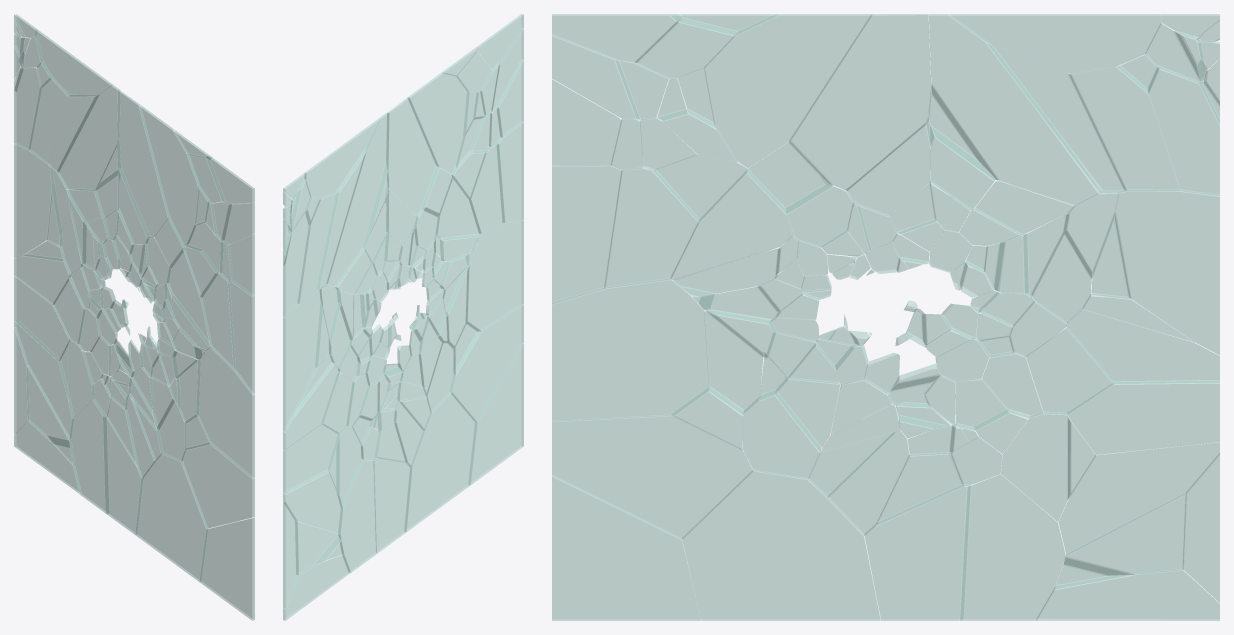
Rendered from Glass_Crack_Experiment_1.fbx.
3 renders of one model, left to right at view 1: azimuth 30°, elevation 25°; view 2: azimuth 150°, elevation 25°; view 3: azimuth 270°, elevation 25°, orthographic. The views are drawn at different scales.
Parts seen in each view (by area): view 1: Plate1_cell.176, Plate1_cell.009, Plate1_cell.167, Plate1_cell.107, Plate1_cell.120, Plate1_cell.142, Plate1_cell.008, Plate1_cell.025, Plate1_cell.130, Plate1_cell.173, Plate1_cell.116, Plate1_cell.158 (+63 smaller); view 2: Plate1_cell.176, Plate1_cell.009, Plate1_cell.167, Plate1_cell.120, Plate1_cell.107, Plate1_cell.008, Plate1_cell.142, Plate1_cell.025, Plate1_cell.130, Plate1_cell.173, Plate1_cell.158, Plate1_cell.116 (+63 smaller); view 3: Plate1_cell.176, Plate1_cell.009, Plate1_cell.167, Plate1_cell.107, Plate1_cell.120, Plate1_cell.008, Plate1_cell.142, Plate1_cell.025, Plate1_cell.130, Plate1_cell.173, Plate1_cell.116, Plate1_cell.158 (+73 smaller).
Boxes of the visible parts, box(x1,y1,x2,y2) form: Plate1_cell.176: box(135, 453, 207, 581); Plate1_cell.009: box(196, 346, 254, 478); Plate1_cell.167: box(181, 443, 254, 528); Plate1_cell.107: box(117, 90, 168, 238); Plate1_cell.120: box(199, 517, 254, 620); Plate1_cell.142: box(139, 105, 199, 247); Plate1_cell.008: box(57, 85, 120, 190); Plate1_cell.025: box(14, 144, 53, 257); Plate1_cell.130: box(69, 399, 108, 513); Plate1_cell.173: box(103, 416, 142, 534); Plate1_cell.116: box(14, 319, 73, 439); Plate1_cell.158: box(14, 276, 69, 360); Plate1_cell.176: box(404, 392, 477, 532); Plate1_cell.009: box(466, 220, 523, 330); Plate1_cell.167: box(450, 304, 523, 421); Plate1_cell.120: box(468, 343, 523, 484); Plate1_cell.107: box(386, 97, 439, 217); Plate1_cell.008: box(327, 112, 389, 286); Plate1_cell.142: box(407, 73, 469, 174); Plate1_cell.025: box(283, 289, 322, 432); Plate1_cell.130: box(338, 459, 376, 572); Plate1_cell.173: box(374, 457, 412, 553); Plate1_cell.158: box(283, 424, 339, 494); Plate1_cell.116: box(283, 470, 342, 533); Plate1_cell.176: box(682, 470, 880, 620); Plate1_cell.009: box(552, 279, 708, 421); Plate1_cell.167: box(552, 415, 753, 539); Plate1_cell.107: box(789, 14, 931, 190); Plate1_cell.120: box(552, 476, 701, 620); Plate1_cell.008: box(929, 14, 1099, 205); Plate1_cell.142: box(704, 14, 871, 167); Plate1_cell.025: box(1115, 190, 1219, 354); Plate1_cell.130: box(960, 474, 1065, 620); Plate1_cell.173: box(864, 485, 970, 620); Plate1_cell.116: box(1058, 442, 1219, 555); Plate1_cell.158: box(1067, 381, 1219, 454).
Size of the model in its own units: 1.19 by 200 by 200.
